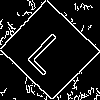L: (24, 25, 76, 76)
